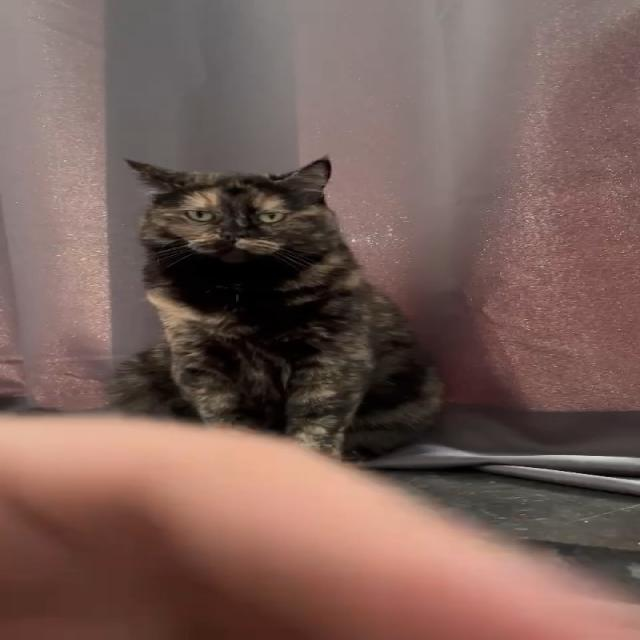authorized: (104, 154, 447, 462)
